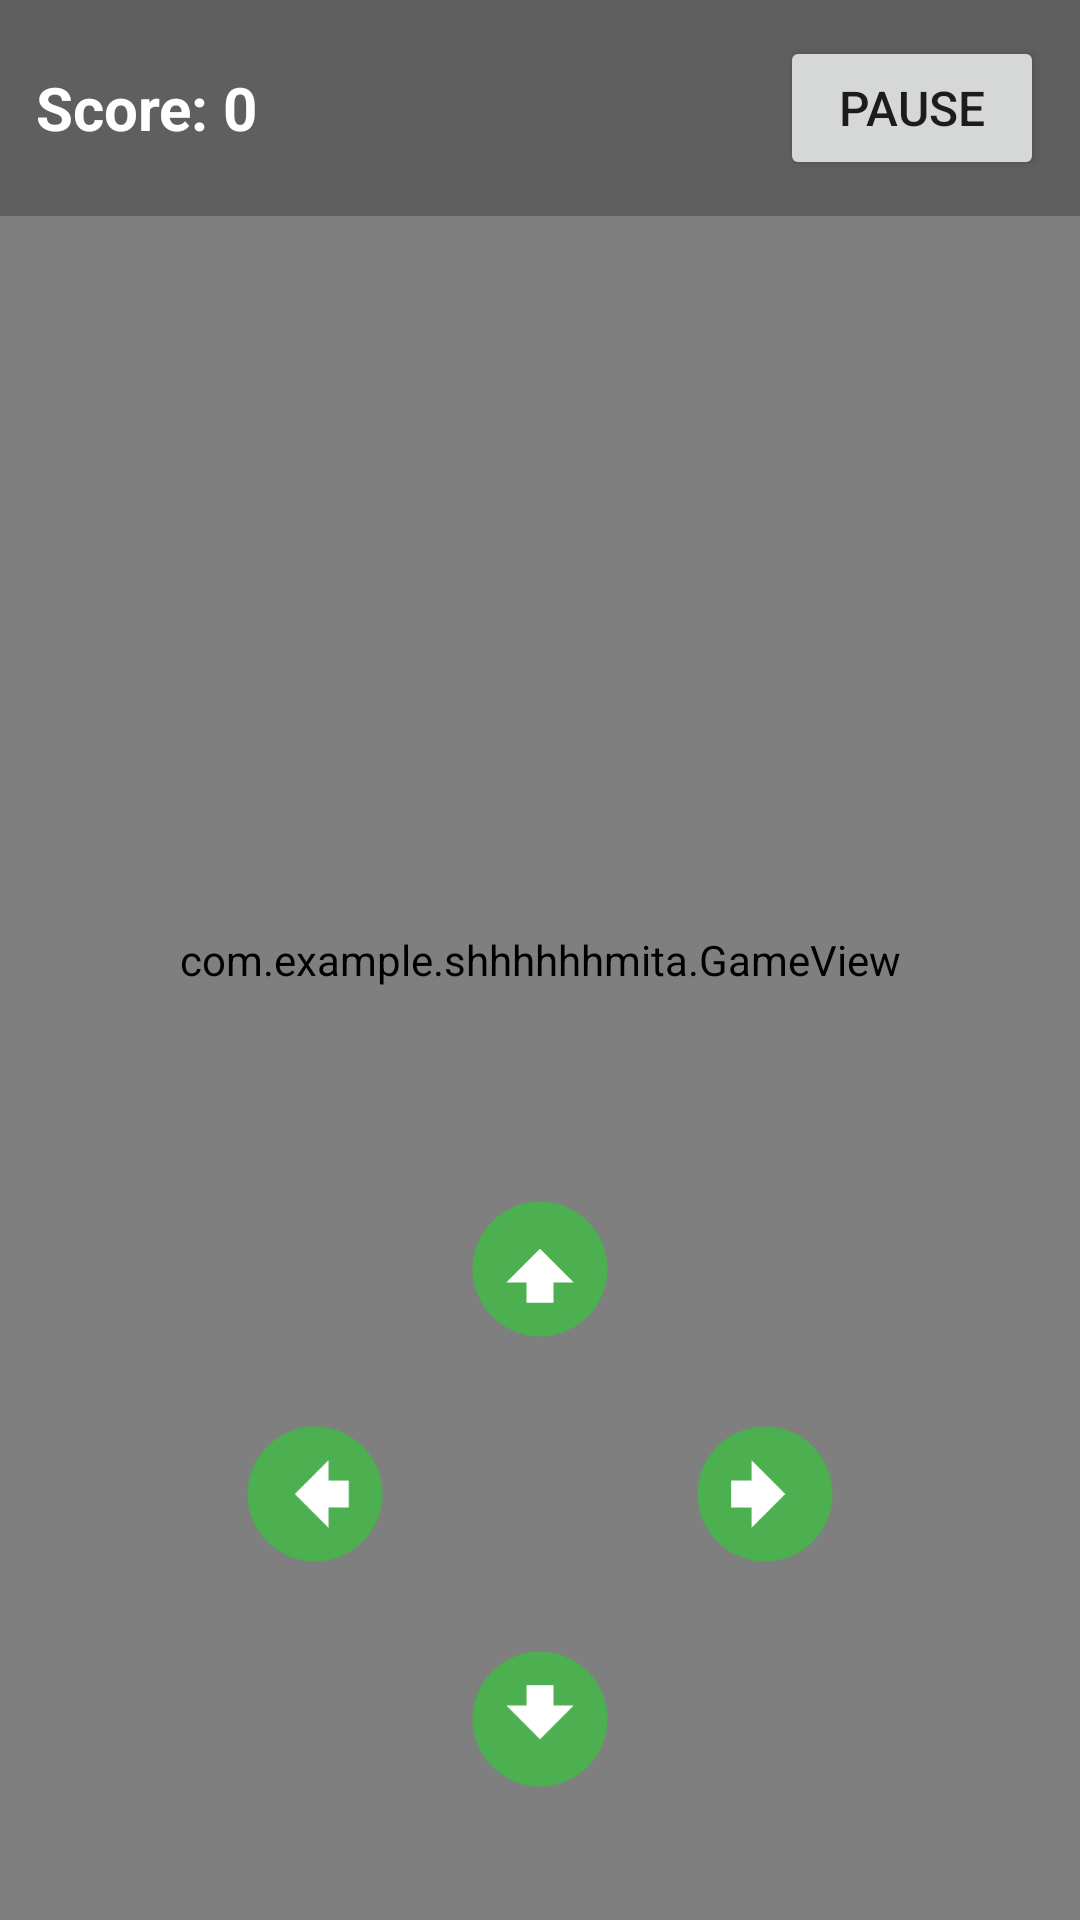

Icon click points for this 1080x1920 phone screenshot, format (x=x, y=y):
arrow down: (x=540, y=1719)
arrow left: (x=315, y=1494)
arrow right: (x=765, y=1494)
arrow up: (x=540, y=1269)
